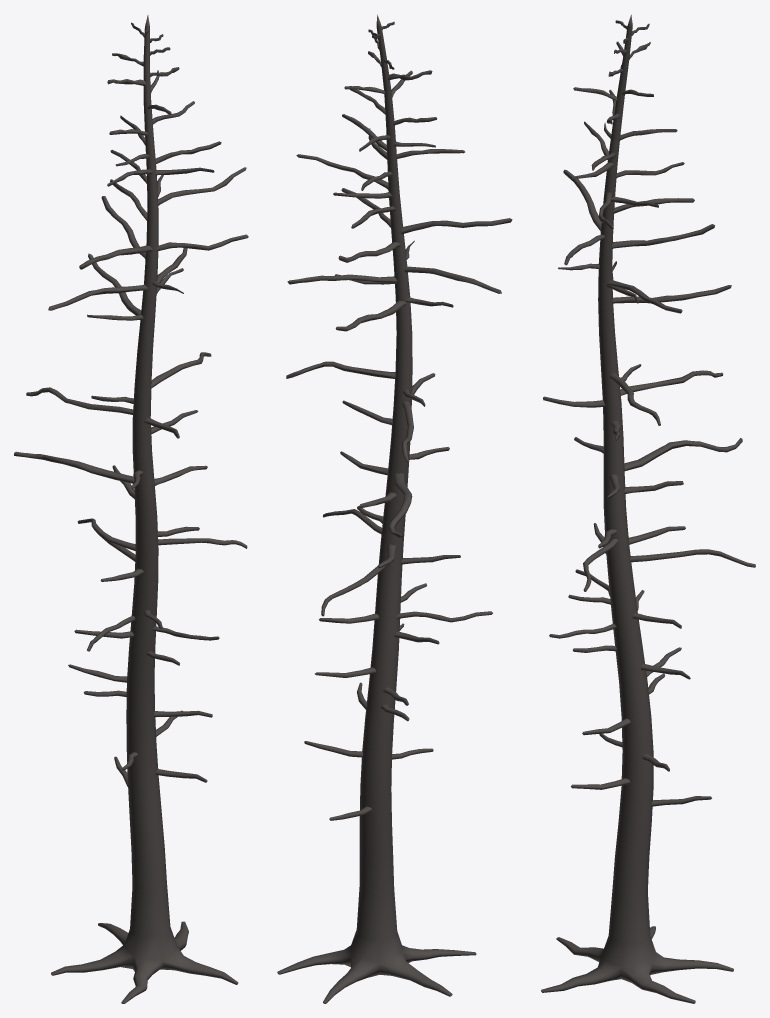
File: P_fir_dead_01_LD.fbx
The picture shows the model from 3 angles, left to right: view 1: azimuth 30°, elevation 25°; view 2: azimuth 150°, elevation 25°; view 3: azimuth 270°, elevation 25°; orthographic projection.
Visible parts, largest first — view 1: P_fir_dead_01; view 2: P_fir_dead_01; view 3: P_fir_dead_01.
Boxes of the visible parts, x1,y1,x2,y2 form: P_fir_dead_01: [14, 15, 248, 1003]; P_fir_dead_01: [277, 14, 512, 1003]; P_fir_dead_01: [541, 14, 755, 1003].
Size of the model in its own units: 207 by 930 by 189.
